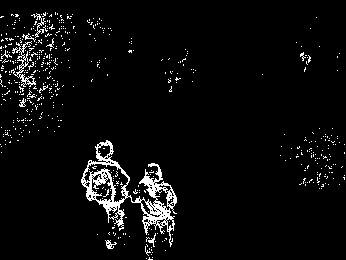person: (81, 138, 130, 251), (134, 159, 178, 259)
